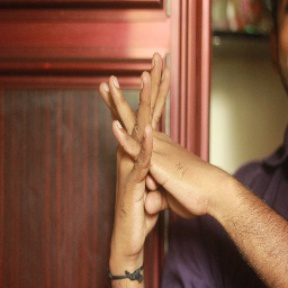W: (85, 52, 211, 233)
